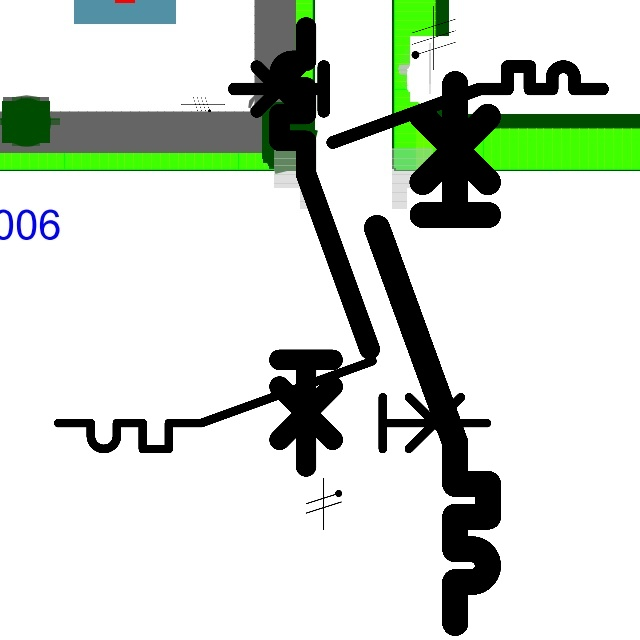interruptor_termomagnetico: (363, 70, 502, 637), (268, 16, 381, 477), (47, 350, 498, 460), (224, 57, 611, 151)
